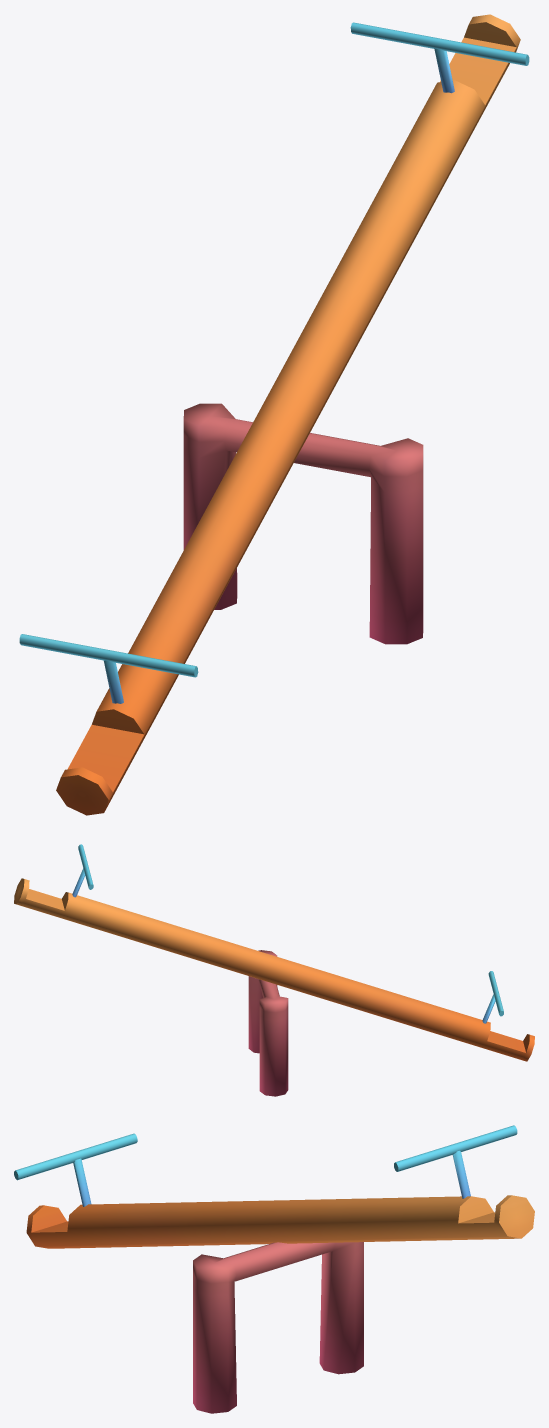
File: seesaw_1.fbx
3 views of the same model, one above another, from view 1: azimuth 30°, elevation 25°; view 2: azimuth 150°, elevation 25°; view 3: azimuth 270°, elevation 25° (orthographic). The views are drawn at different scales.
Parts seen in each view (by area): view 1: seesaw_1; view 2: seesaw_1; view 3: seesaw_1.
Boxes of the visible parts, <box> form: seesaw_1: <box>19,14,529,815</box>; seesaw_1: <box>14,844,534,1096</box>; seesaw_1: <box>14,1125,534,1413</box>.
Bounding box in the file's own units: 668 × 371 × 519.
Materials: 1 (1 with a texture image).
